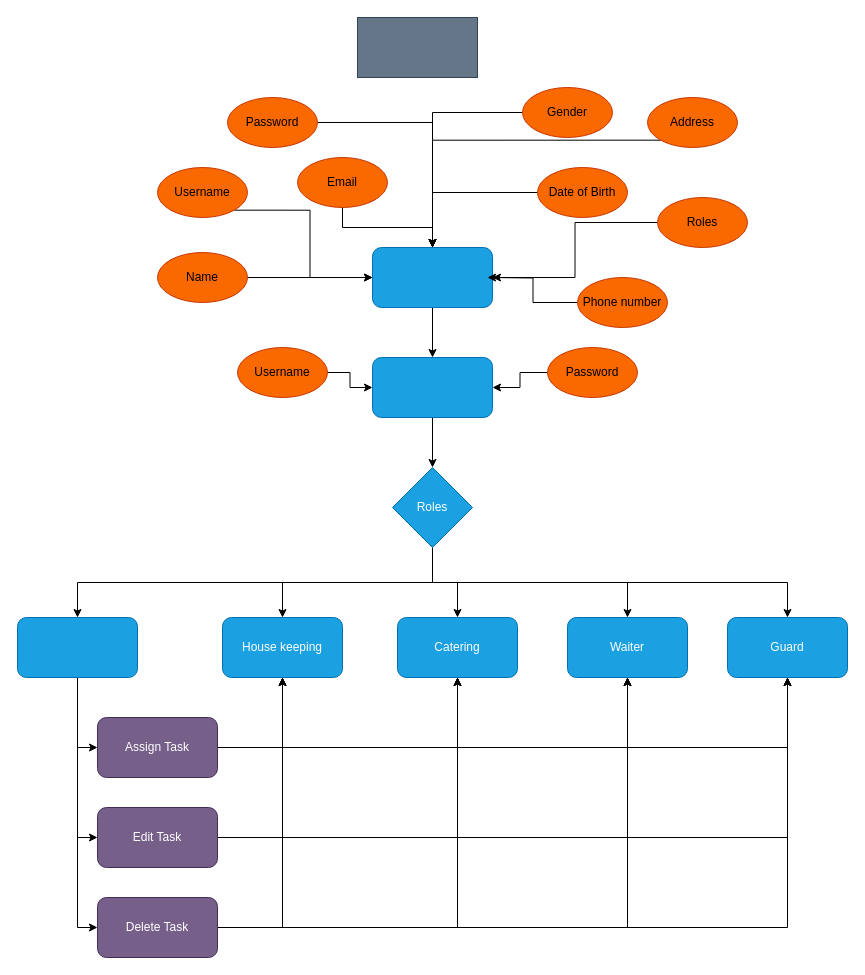
Image size: 865x975. Some labels were removed from this diagram. Here are the shapes that lost their labels. From the top down, the box of each, then its label:
(356, 16, 478, 78): Staff
(372, 246, 492, 308): Registration
(372, 356, 492, 418): Login
(16, 616, 138, 678): Manager
